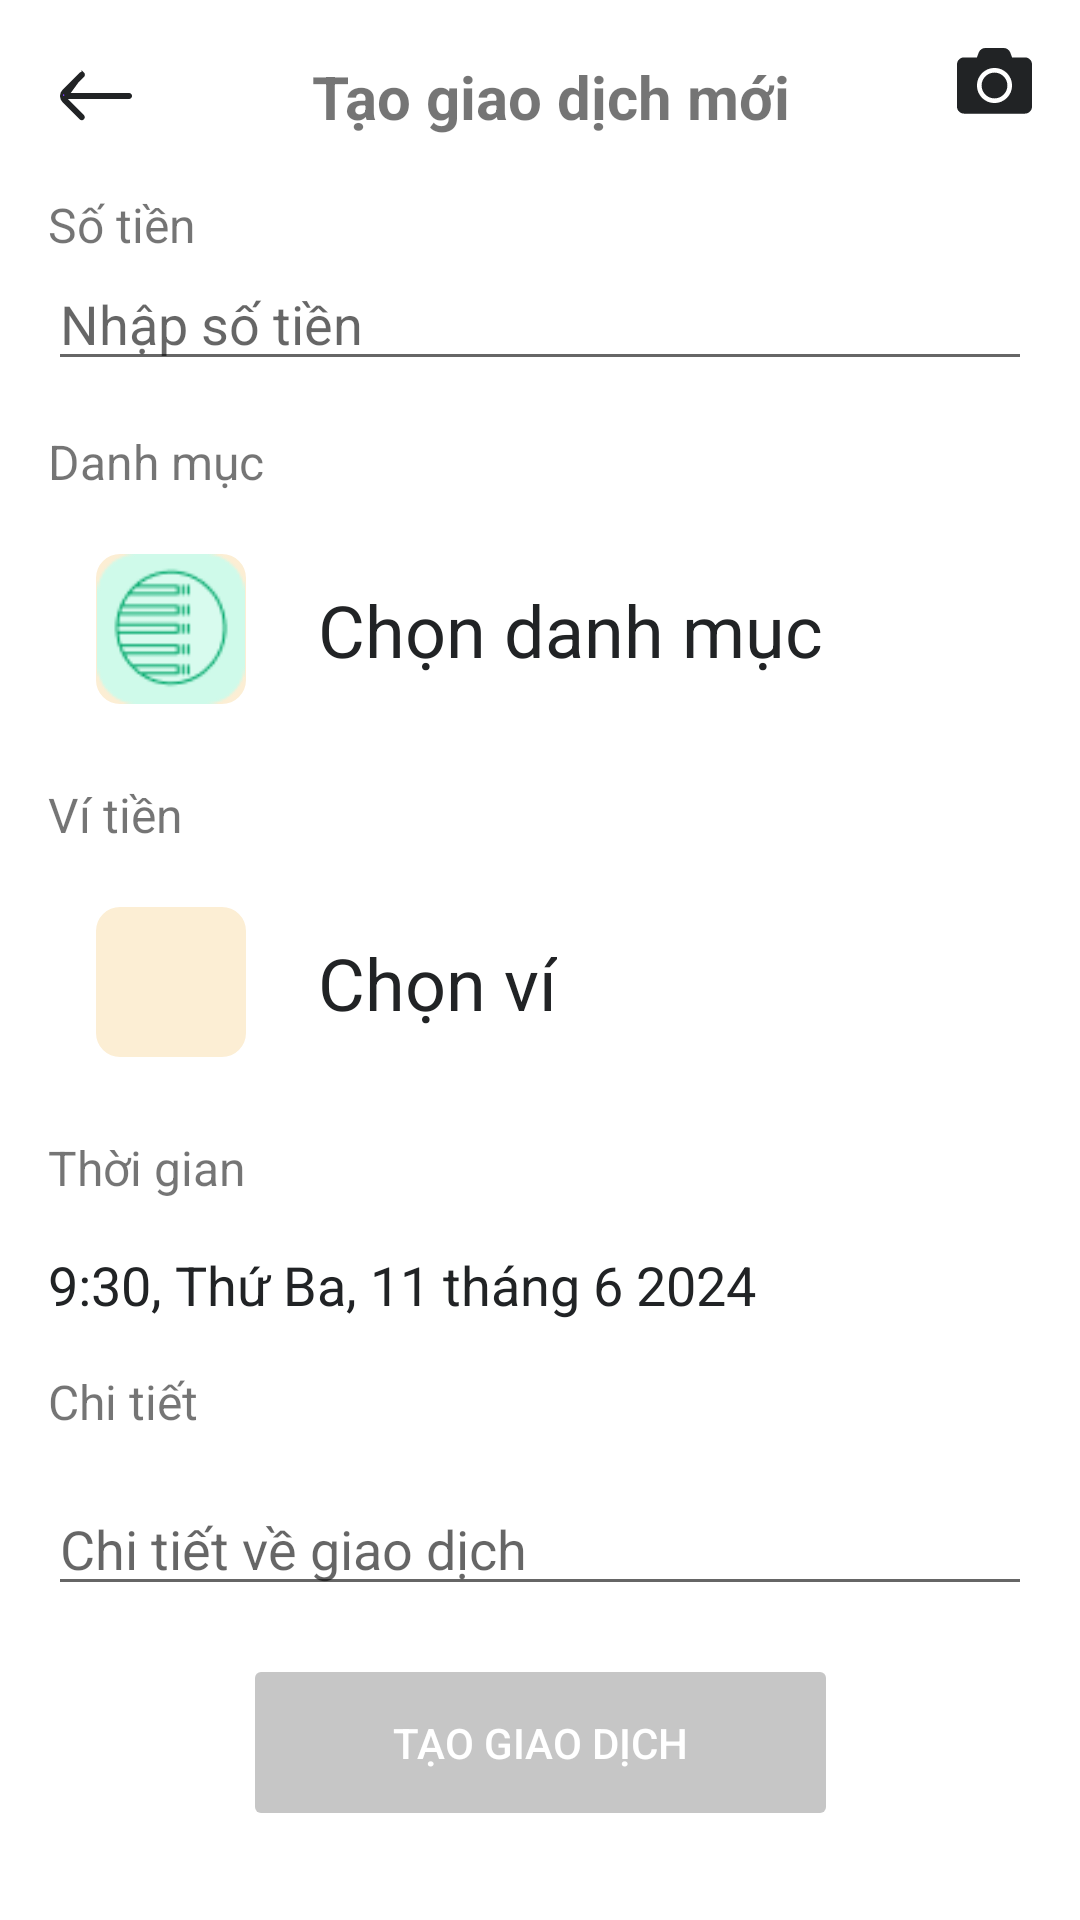

Icons on this 1080x1920 Android screen, each with its box as (x1, y1, x2, y2):
back: (60, 70, 132, 121)
camera: (957, 48, 1032, 114)
